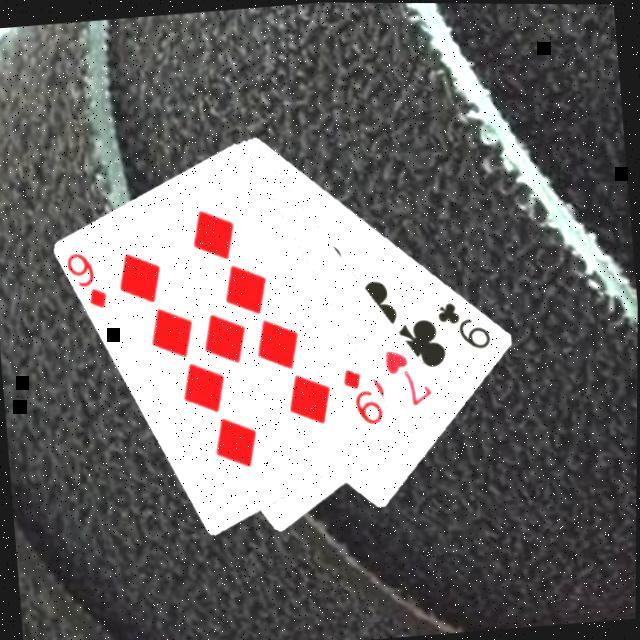7H: (378, 339, 436, 409)
9C: (430, 292, 493, 353)
9D: (337, 360, 386, 428), (62, 244, 110, 312)
